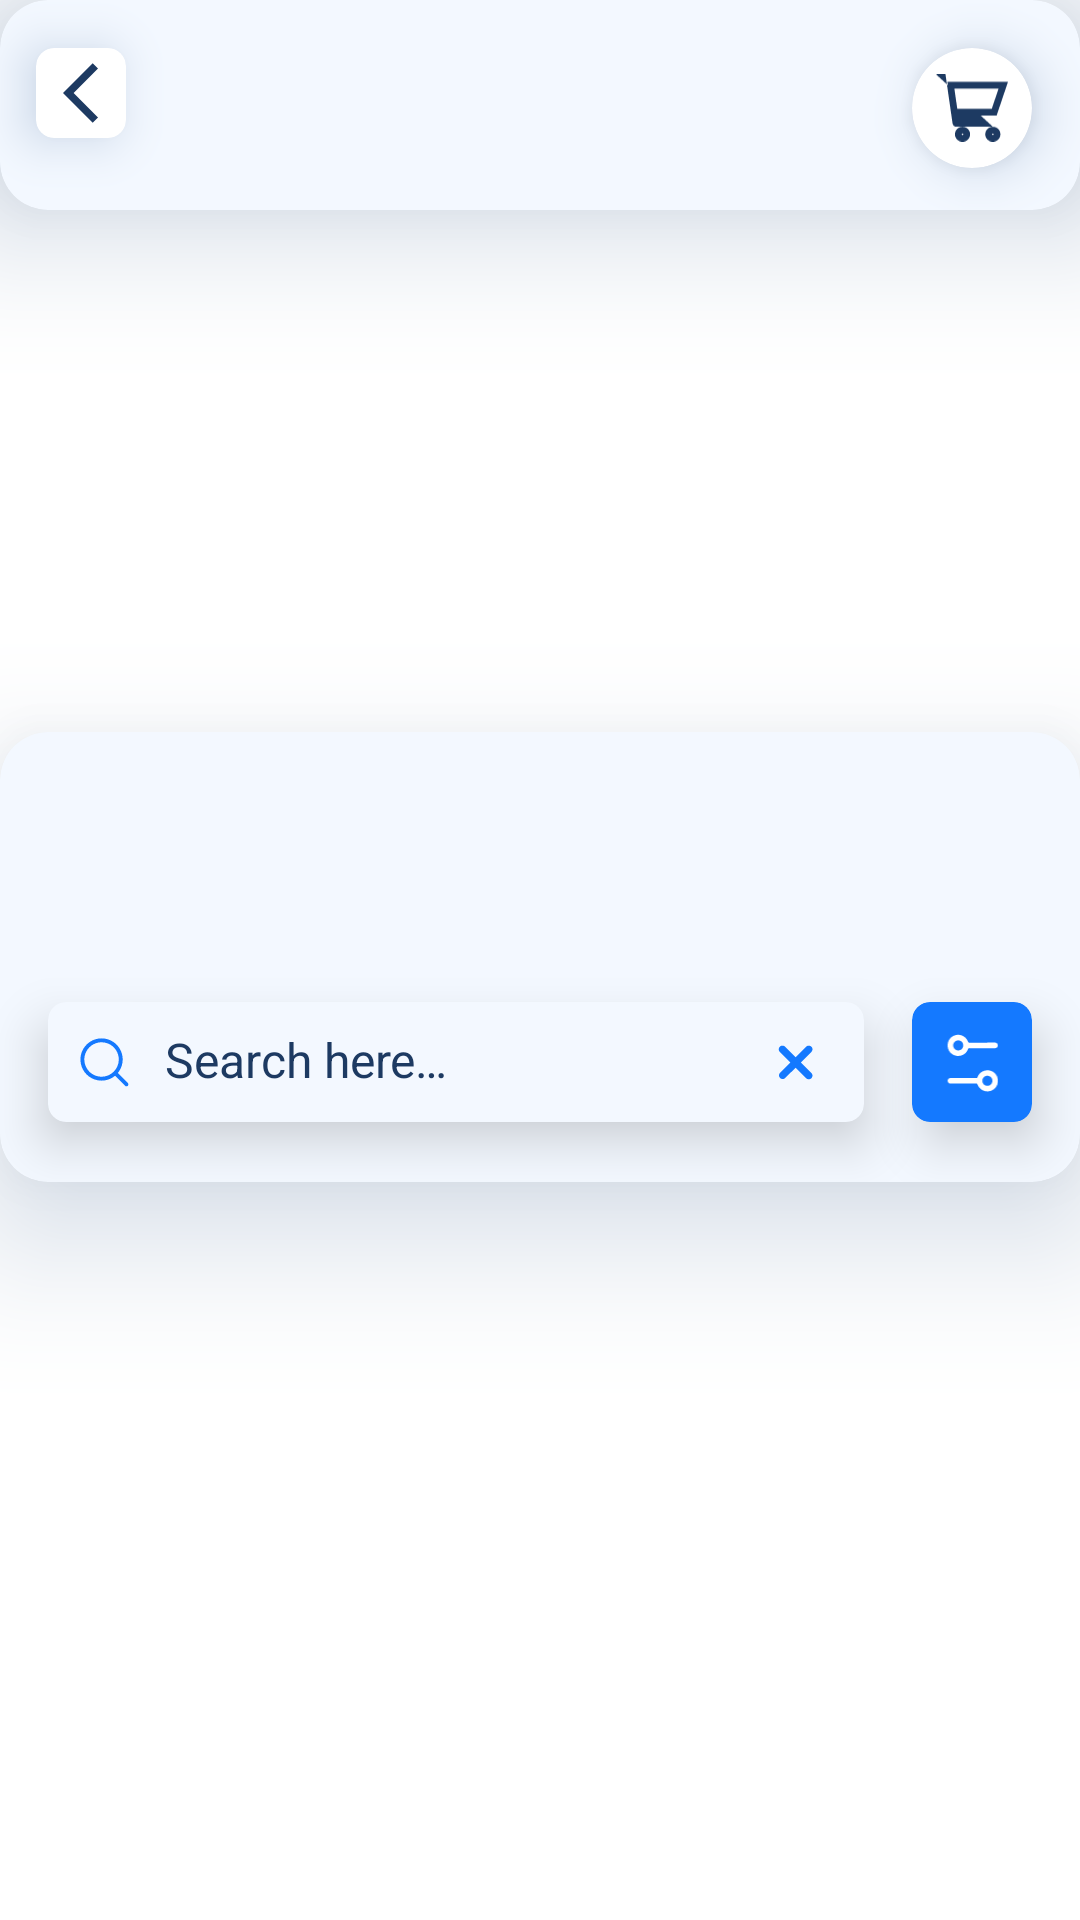

Icons on this 1080w x 1920h Android screen, each with the point to tap as [x,y]:
cart: [972,108]
cross: [795,1062]
